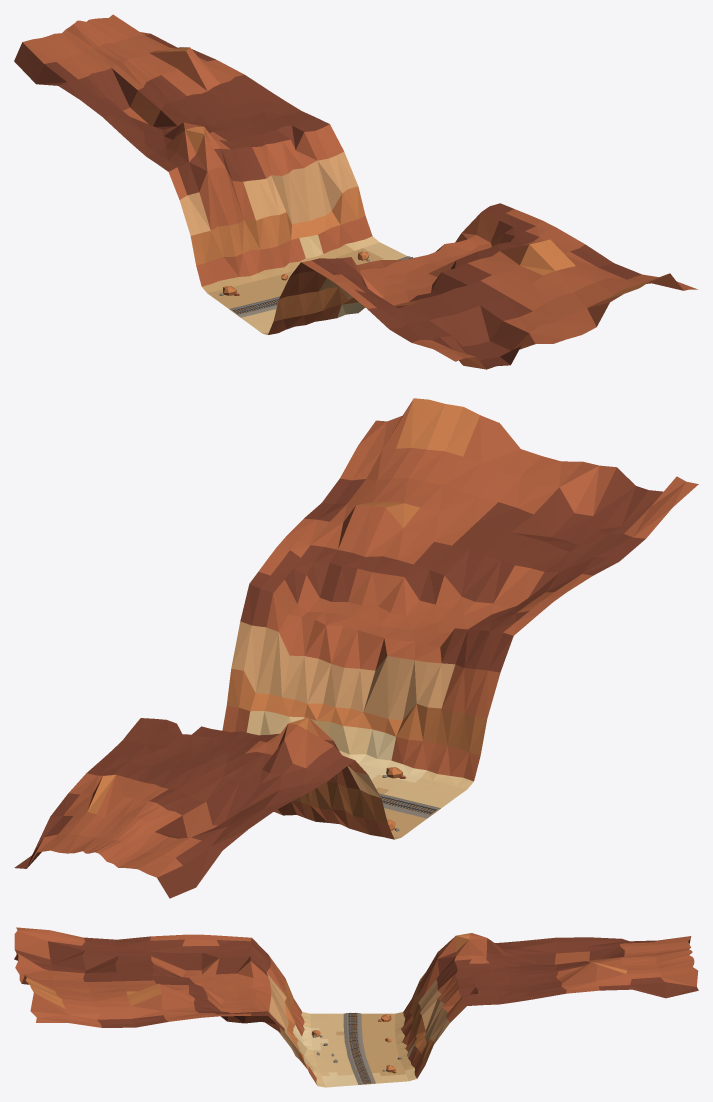
The model's file is SM_FG_Chunk_CanyonDeep_CurveL_A.fbx.
3 renders of one model, top to bottom at view 1: azimuth 30°, elevation 25°; view 2: azimuth 150°, elevation 25°; view 3: azimuth 270°, elevation 25°, orthographic. The views are drawn at different scales.
Visible parts, largest first — view 1: FG_Chunk_CanyonDeep_CurveL_A_Ground, FG_Chunk_CanyonDeep_CurveL_A_Track; view 2: FG_Chunk_CanyonDeep_CurveL_A_Ground, FG_Chunk_CanyonDeep_CurveL_A_Track; view 3: FG_Chunk_CanyonDeep_CurveL_A_Ground, FG_Chunk_CanyonDeep_CurveL_A_Track, FG_Chunk_CanyonDeep_CurveL_A_SceneryNear.
Boxes of the visible parts, x1,y1,x2,y2 form: FG_Chunk_CanyonDeep_CurveL_A_Ground: (14,14,697,369); FG_Chunk_CanyonDeep_CurveL_A_Track: (229,256,412,317); FG_Chunk_CanyonDeep_CurveL_A_Ground: (14,398,698,898); FG_Chunk_CanyonDeep_CurveL_A_Track: (379,793,440,818); FG_Chunk_CanyonDeep_CurveL_A_Ground: (14,927,698,1087); FG_Chunk_CanyonDeep_CurveL_A_Track: (343,1012,375,1084); FG_Chunk_CanyonDeep_CurveL_A_SceneryNear: (311,1014,401,1073).
Bounding box in the file's own units: 6706 × 20347 × 3488.
